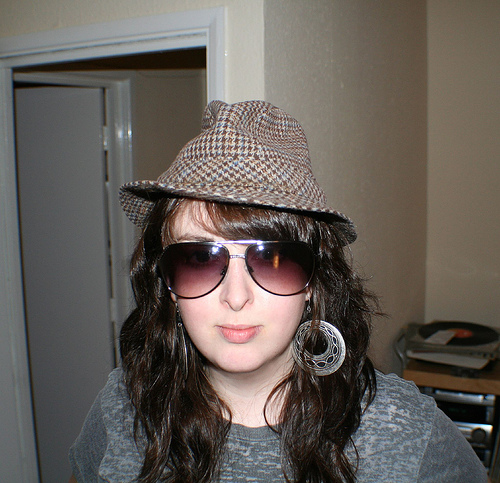without_mask: (138, 146, 362, 406)
